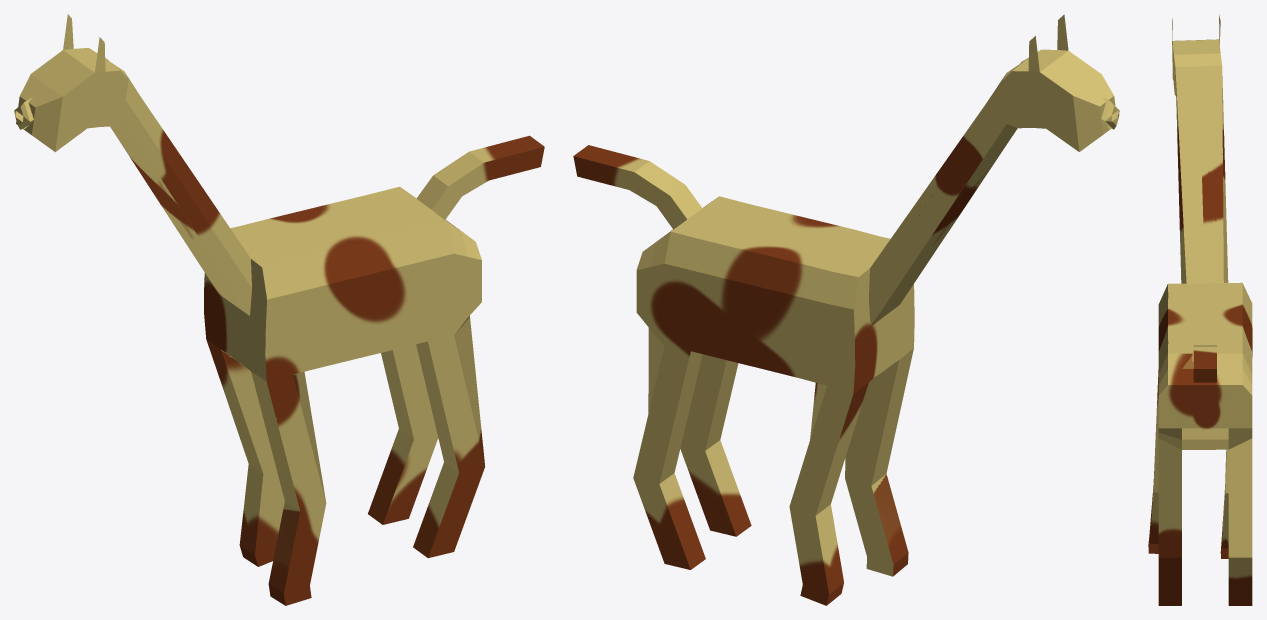
The model's file is goodgiraffe.glb.
The picture shows the model from 3 angles, left to right: view 1: azimuth 30°, elevation 25°; view 2: azimuth 150°, elevation 25°; view 3: azimuth 270°, elevation 25°; orthographic projection. The views are drawn at different scales.
Visible parts, largest first — view 1: Cube; view 2: Cube; view 3: Cube.
Boxes of the visible parts, left/top/right/bottom form: Cube: left=14, top=14, right=544, bottom=605; Cube: left=573, top=14, right=1119, bottom=605; Cube: left=1148, top=15, right=1252, bottom=605.
Size of the model in its own units: 10.05 by 11 by 2.22.
1 material, 1 textured.
